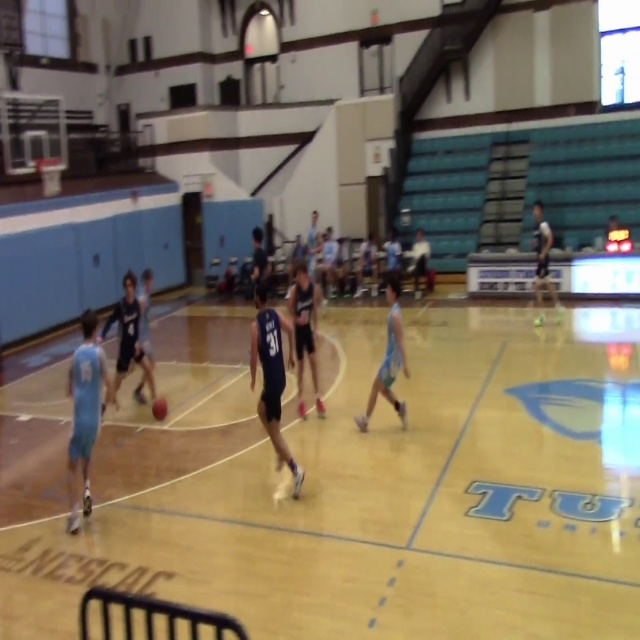Basketball: (151, 397, 168, 421), (533, 316, 543, 327)
